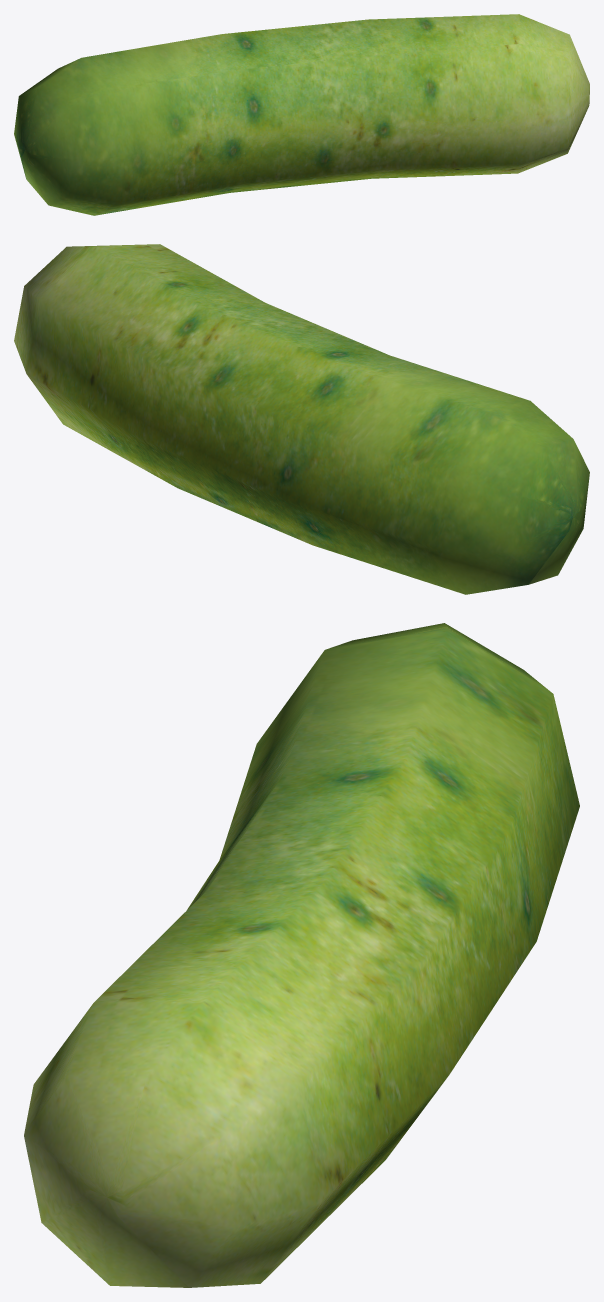
File: Cucumber_RAW.FBX
3 renders of one model, top to bottom at view 1: azimuth 30°, elevation 25°; view 2: azimuth 150°, elevation 25°; view 3: azimuth 270°, elevation 25°, orthographic. The views are drawn at different scales.
Parts seen in each view (by area): view 1: ChamferCyl001; view 2: ChamferCyl001; view 3: ChamferCyl001.
Boxes of the visible parts, x1,y1,x2,y2 form: ChamferCyl001: [14, 14, 589, 215]; ChamferCyl001: [14, 244, 589, 594]; ChamferCyl001: [24, 623, 579, 1287].
Bounding box in the file's own units: 142 × 69.13 × 41.17.
